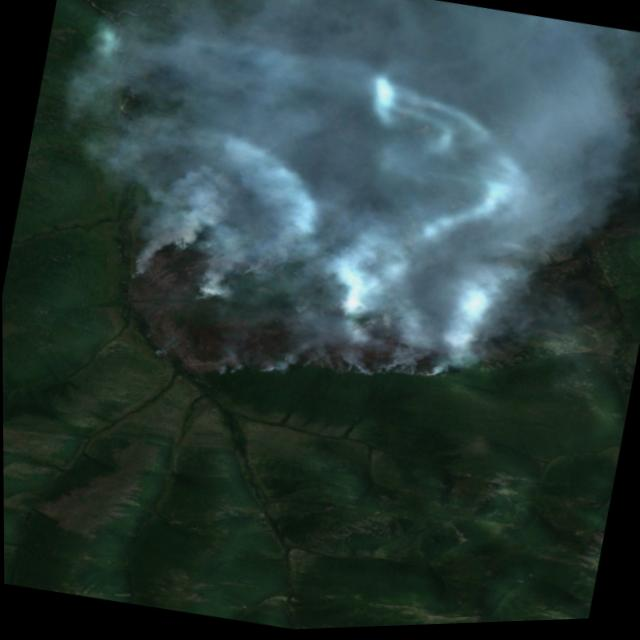fire: (88, 194, 527, 443)
